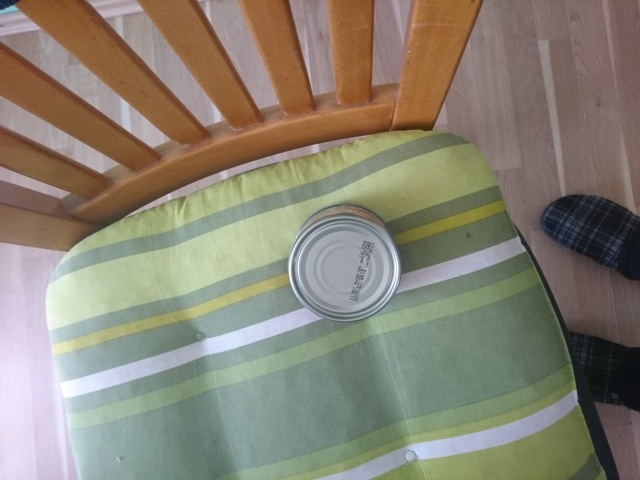Giana Tuna Salad Mexico 185g: (284, 201, 404, 325)
